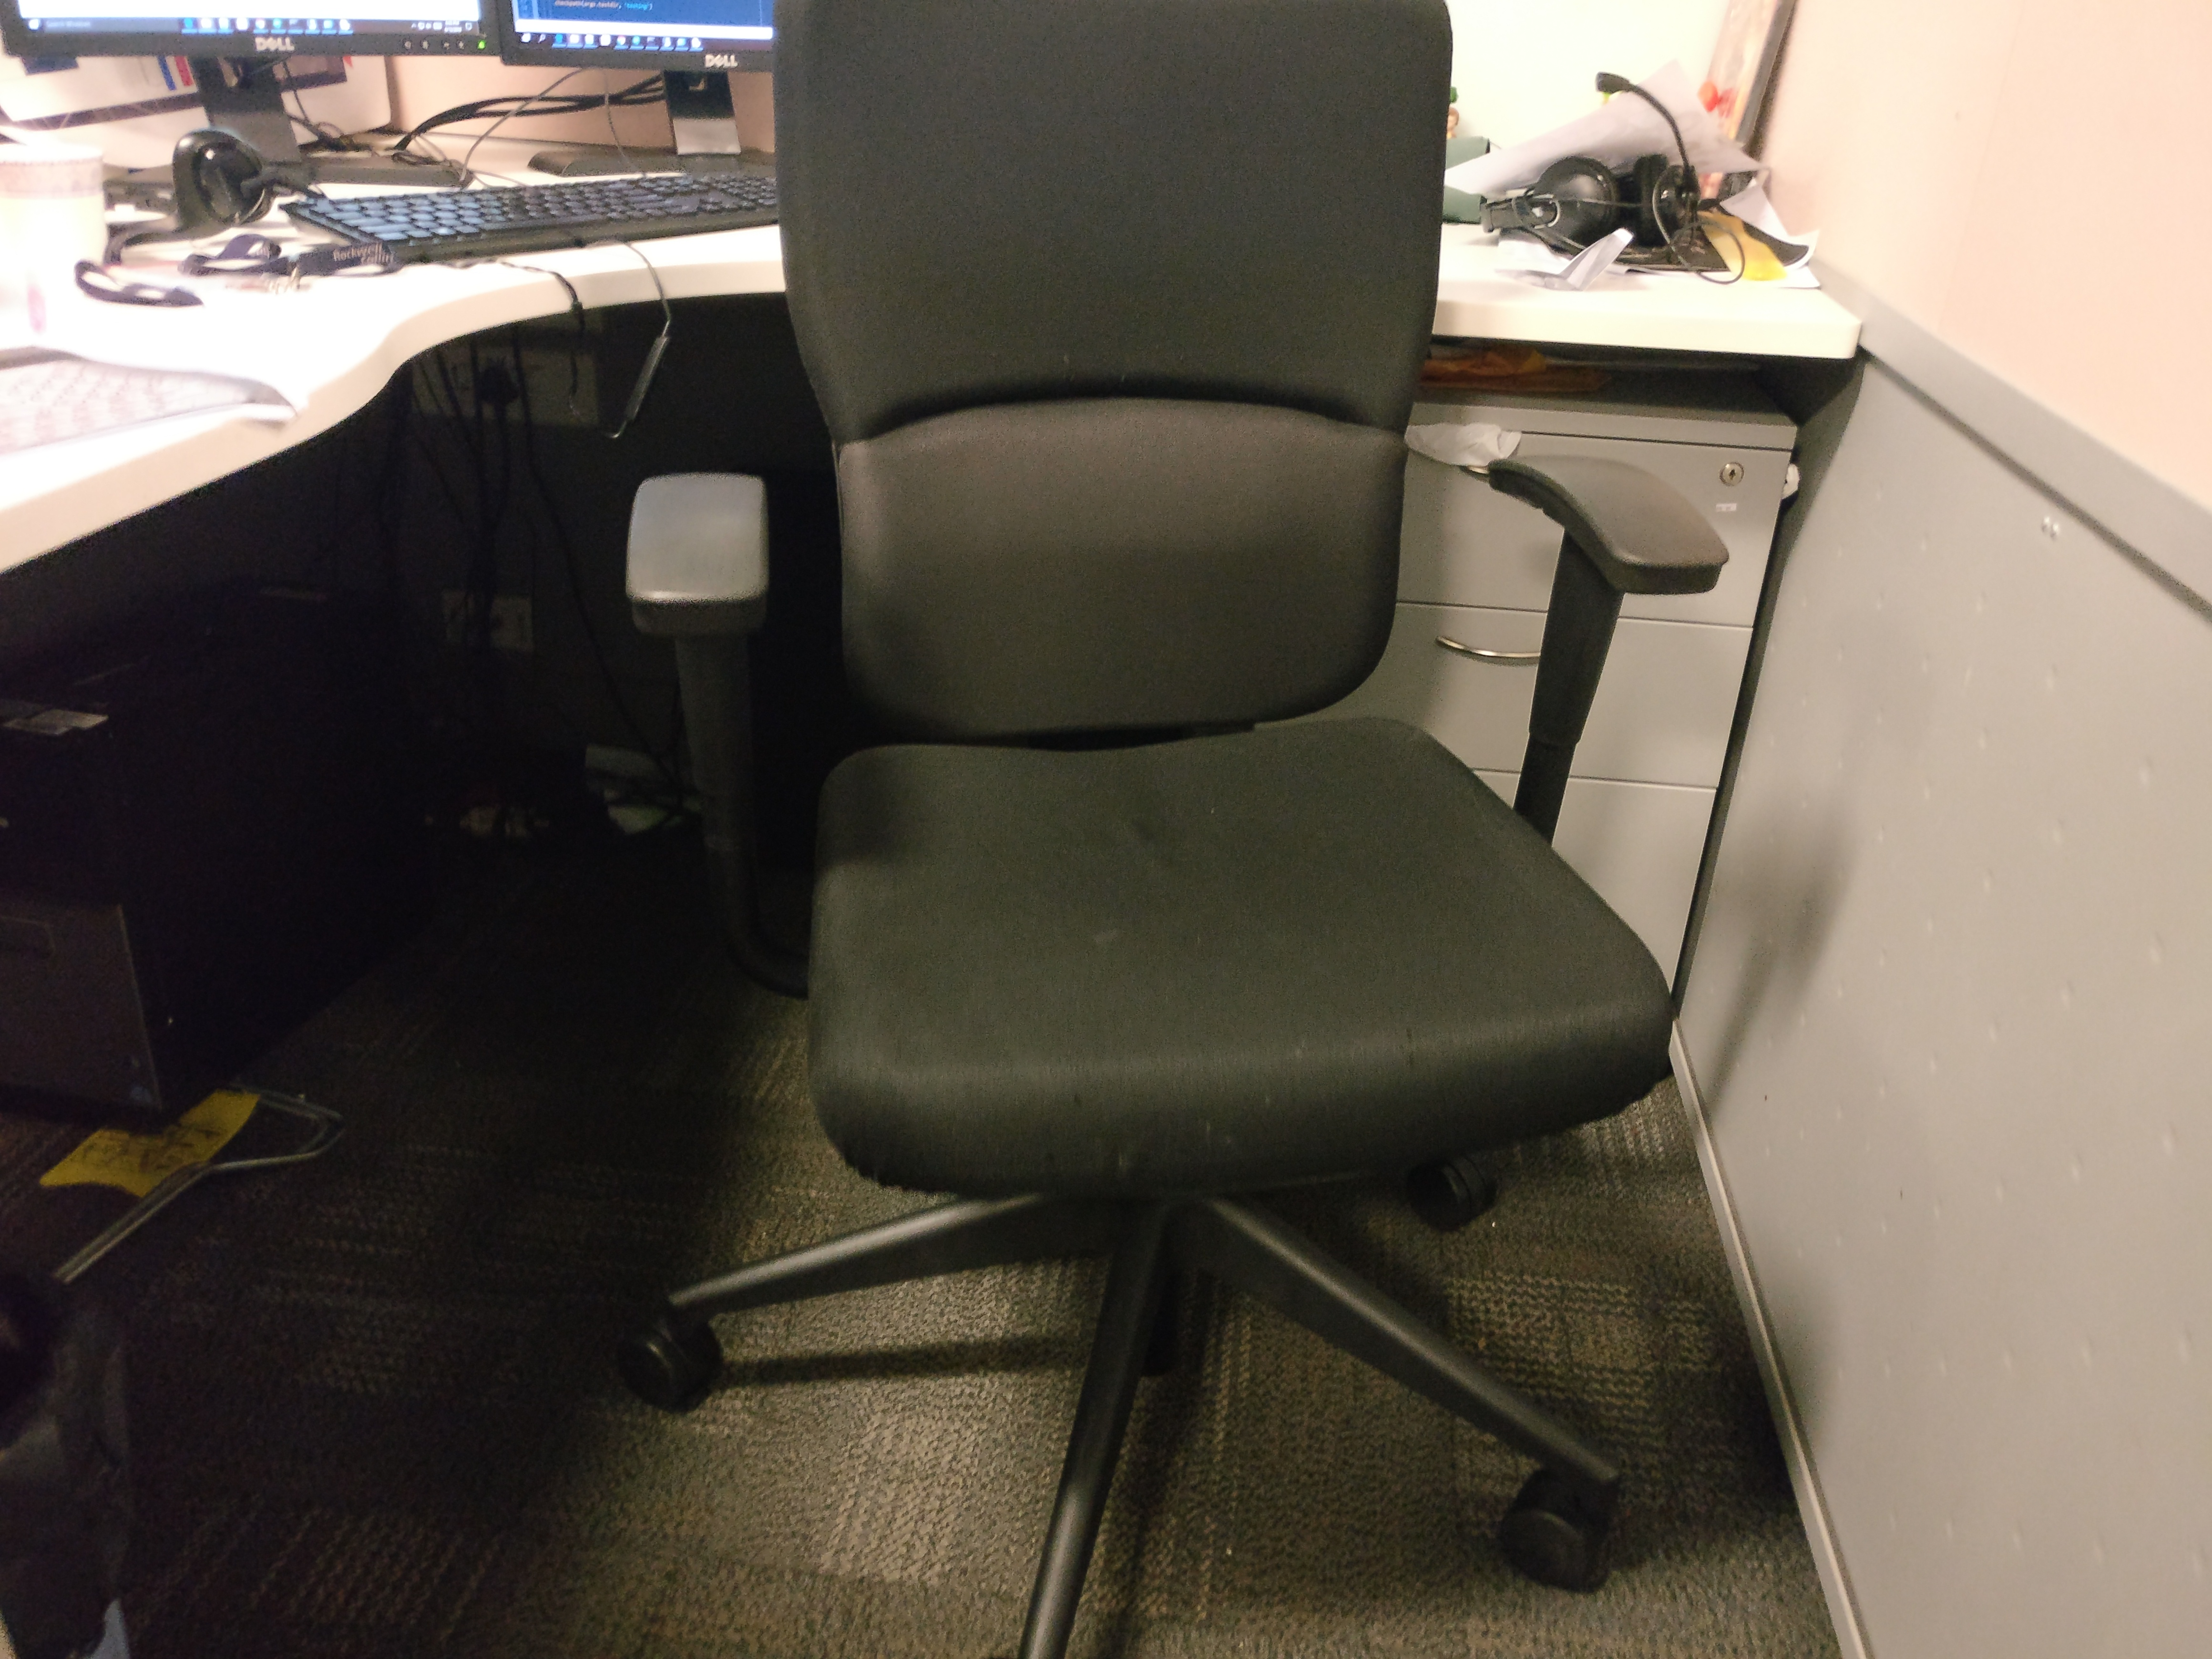chair: (641, 37, 1731, 1622)
